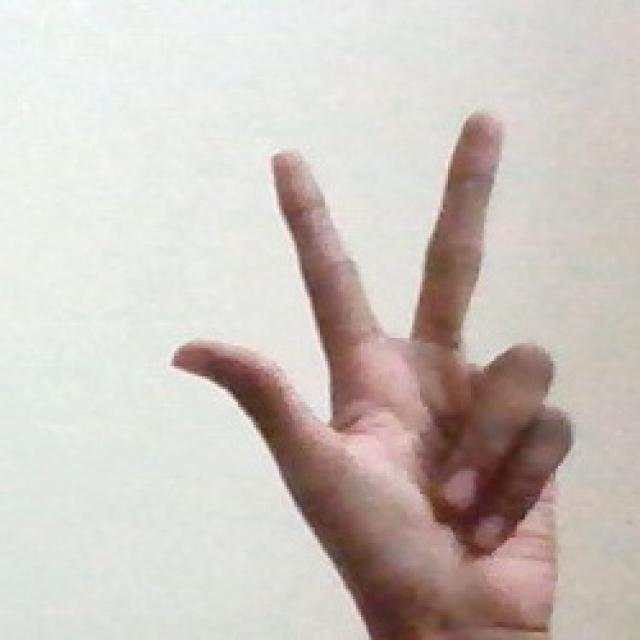Numeric-3: (172, 112, 564, 629)
